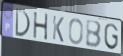B: (85, 20, 103, 50)
D: (14, 8, 32, 39)
G: (103, 22, 119, 52)
H: (33, 12, 49, 42)
K: (52, 14, 65, 44)
O: (68, 18, 84, 46)
